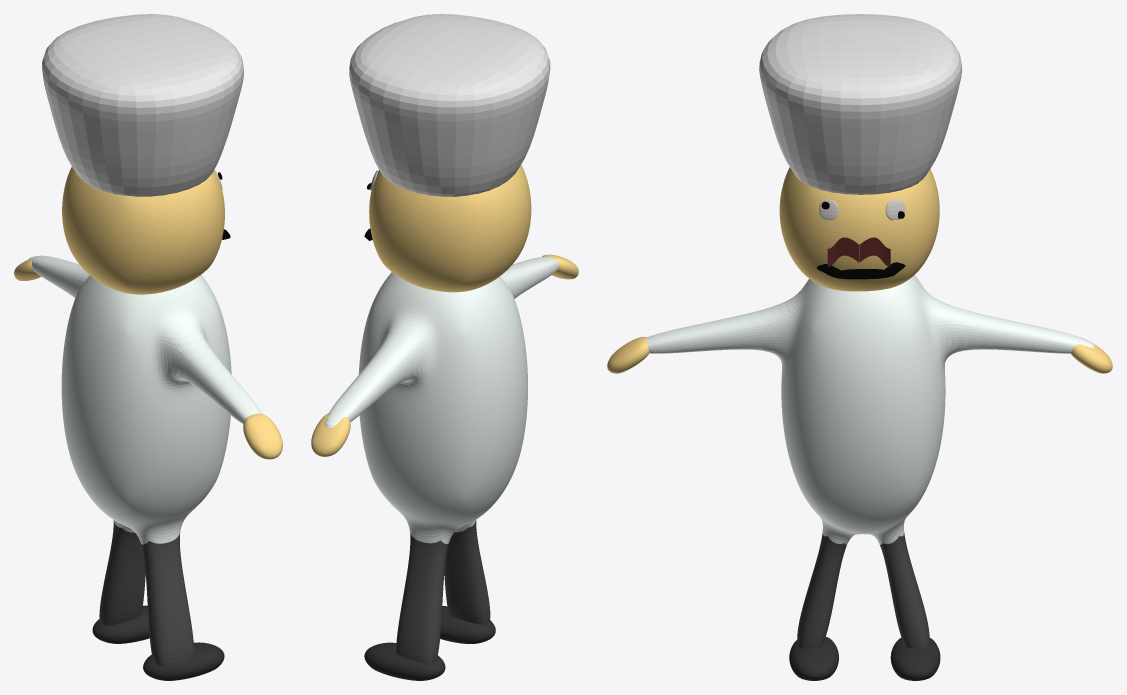
Rendered from Chef with mustache.fbx.
3 renders of one model, left to right at view 1: azimuth 30°, elevation 25°; view 2: azimuth 150°, elevation 25°; view 3: azimuth 270°, elevation 25°, orthographic.
Parts seen in each view (by area): view 1: Cube.001, Cube.007, Cube.004, Cube.005, Cube.002, Cube.006; view 2: Cube.001, Cube.007, Cube.004, Cube.006, Cube.005, Cube.003, Cube.002; view 3: Cube.001, Cube.007, Cube.004, Cube.006, Cube.005, Cube.002, Cube.017, Cube.003.
Part boxes in pixels (<box>): Cube.001: <box>28,255,261,665</box>; Cube.007: <box>42,14,243,196</box>; Cube.004: <box>62,167,224,294</box>; Cube.005: <box>143,642,224,680</box>; Cube.002: <box>243,413,282,459</box>; Cube.006: <box>92,605,149,643</box>; Cube.001: <box>325,256,559,664</box>; Cube.007: <box>349,14,550,196</box>; Cube.004: <box>369,165,531,292</box>; Cube.006: <box>364,642,445,680</box>; Cube.005: <box>440,606,495,643</box>; Cube.003: <box>311,413,350,456</box>; Cube.002: <box>542,254,578,279</box>; Cube.001: <box>647,275,1094,648</box>; Cube.007: <box>759,14,962,194</box>; Cube.004: <box>779,167,939,291</box>; Cube.006: <box>890,637,940,680</box>; Cube.005: <box>789,636,838,680</box>; Cube.002: <box>607,336,649,373</box>; Cube.017: <box>816,262,905,279</box>; Cube.003: <box>1071,337,1112,373</box>.
Bounding box in the file's own units: 87.33 × 298 × 220.
